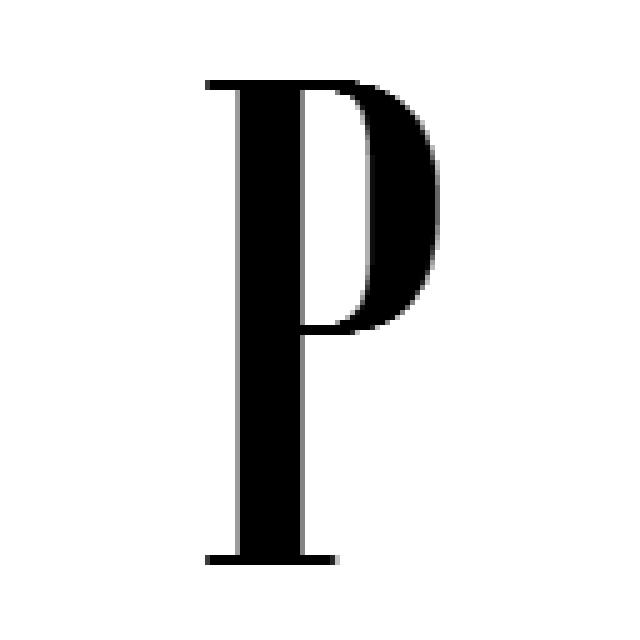P: (205, 80, 440, 570)
